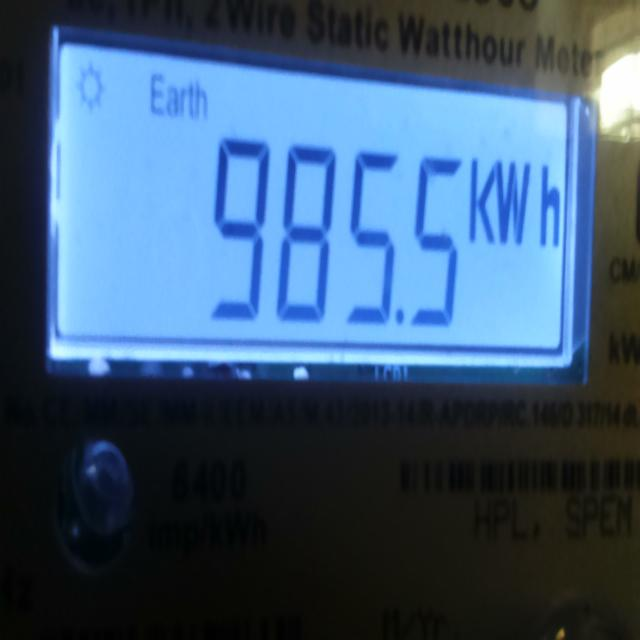.: (397, 310, 402, 325)
5: (348, 151, 394, 324), (416, 156, 458, 322)
8: (280, 147, 334, 320)
9: (213, 141, 266, 315)
